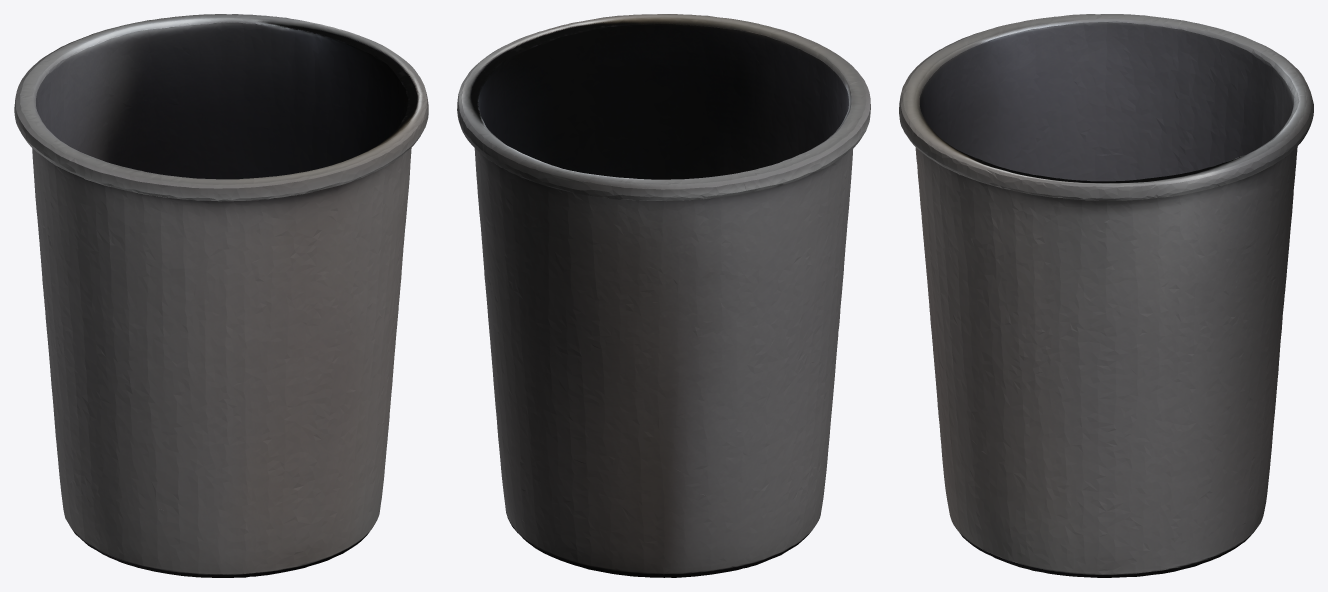
3 renders of one model, left to right at view 1: azimuth 30°, elevation 25°; view 2: azimuth 150°, elevation 25°; view 3: azimuth 270°, elevation 25°, orthographic.
Visible parts, largest first — view 1: world; view 2: world; view 3: world.
Boxes of the visible parts, x1,y1,x2,y2 form: world: (14, 14, 428, 577); world: (457, 14, 870, 577); world: (899, 14, 1313, 577).
Bounding box in the file's own units: 0.9095 × 1 × 0.9092.
1 material, 1 textured.
